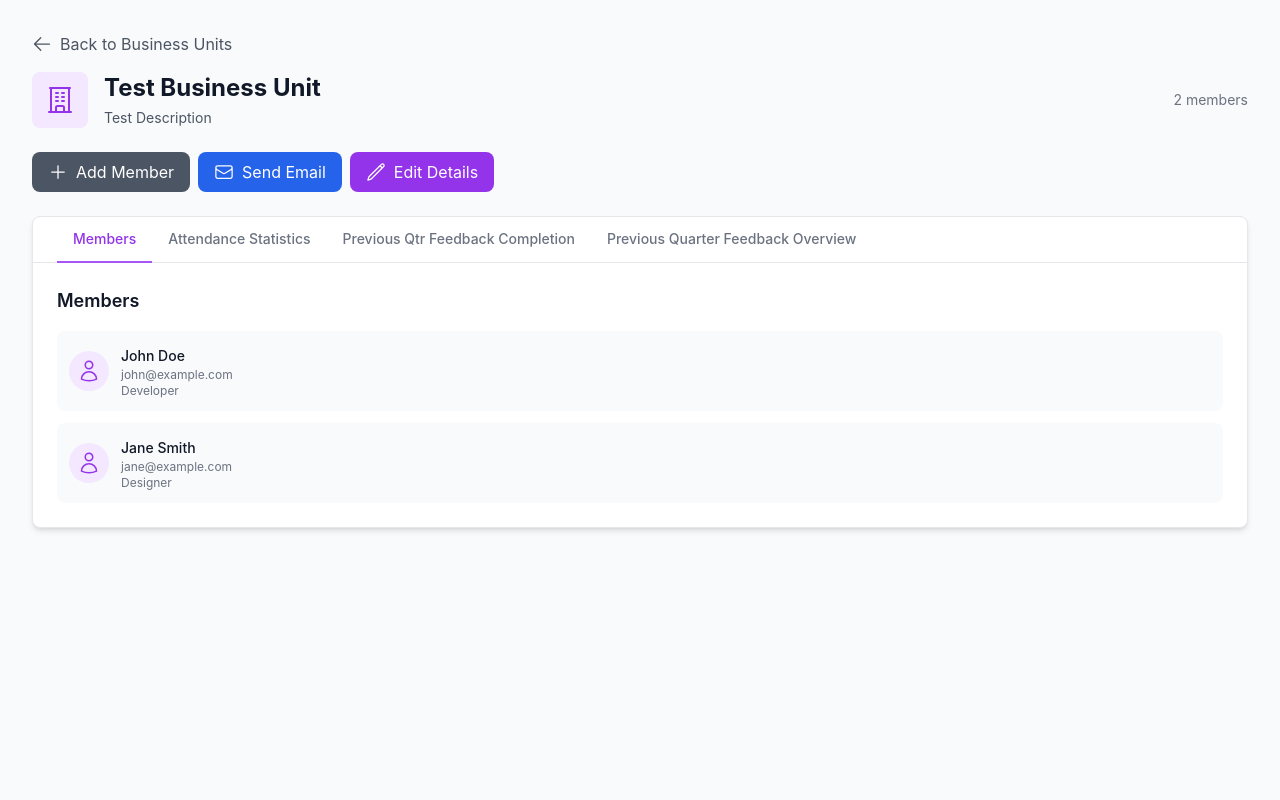
Test: BusinessUnitDetail › should display attendance statistics tab
Expected: the heading "Members" is shown, [57, 290, 139, 311]
What coordinates should you click on to do the following:
click the button "Attendance Statistics"
I would click on:
 (239, 240)
Its box is [152, 217, 327, 263].
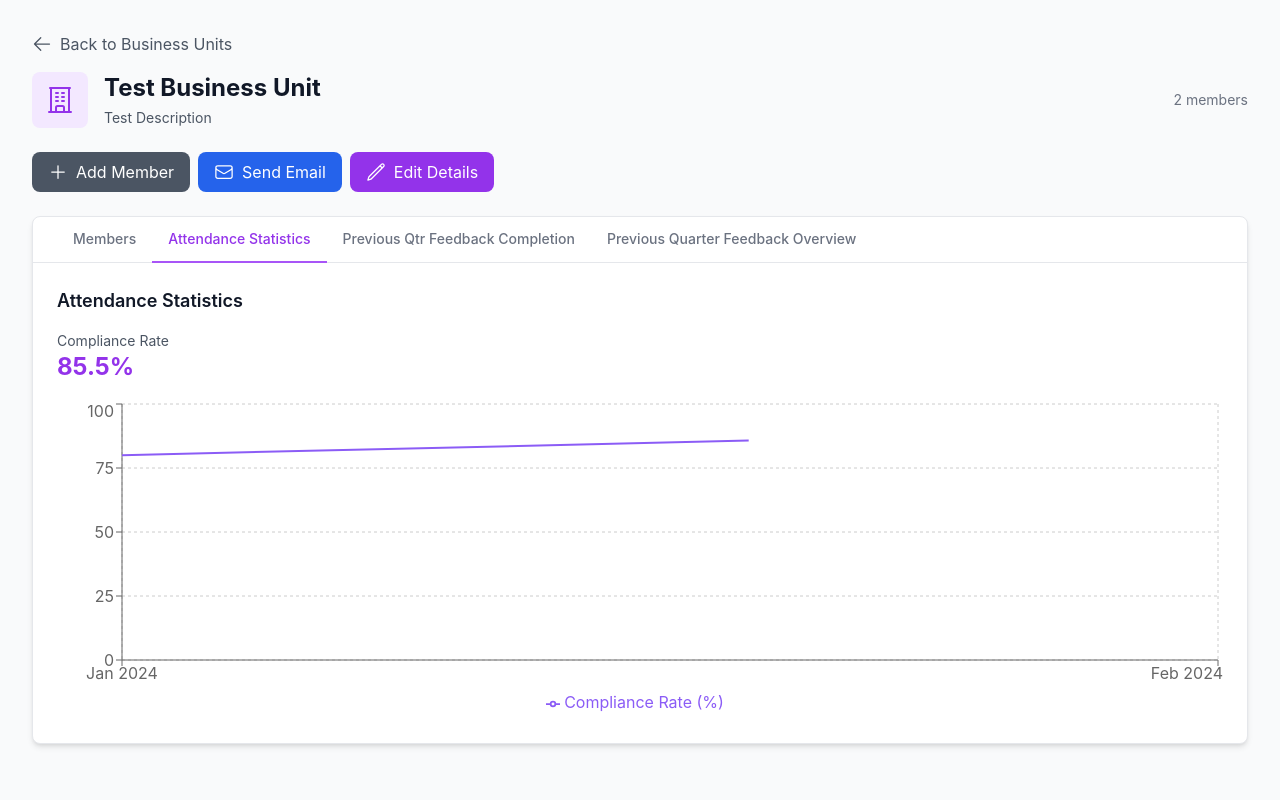
Now the text "Compliance Rate" is shown, box [57, 331, 169, 351]
